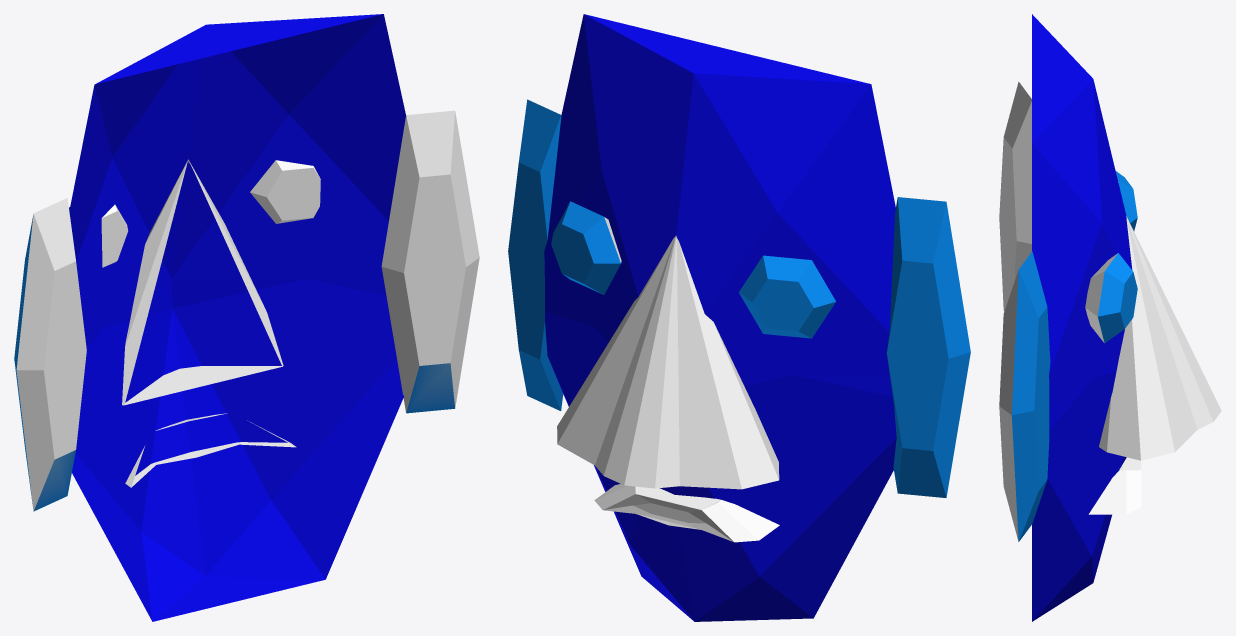
The model's file is ThunderBlue.fbx.
3 views of the same model, side by side, from view 1: azimuth 30°, elevation 25°; view 2: azimuth 150°, elevation 25°; view 3: azimuth 270°, elevation 25° (orthographic). The views are drawn at different scales.
Visible parts, largest first — view 1: Cube, Torus.001, Cone, Torus.004, Torus.002; view 2: Cube, Cone, Torus.001, Torus.004, Torus.002; view 3: Cube, Torus.001, Cone, Torus.004, Torus.002.
Part boxes in pixels (x1=…): Cube: x1=69, y1=14, x2=406, y2=621; Torus.001: x1=14, y1=110, x2=479, y2=511; Cone: x1=122, y1=159, x2=283, y2=405; Torus.004: x1=69, y1=160, x2=320, y2=267; Torus.002: x1=125, y1=413, x2=296, y2=487; Cube: x1=544, y1=14, x2=896, y2=621; Cone: x1=557, y1=236, x2=779, y2=489; Torus.001: x1=508, y1=99, x2=970, y2=497; Torus.004: x1=551, y1=201, x2=836, y2=338; Torus.002: x1=594, y1=484, x2=779, y2=542; Cube: x1=1032, y1=14, x2=1132, y2=621; Torus.001: x1=999, y1=82, x2=1050, y2=541; Cone: x1=1099, y1=216, x2=1221, y2=460; Torus.004: x1=1085, y1=171, x2=1137, y2=343; Torus.002: x1=1088, y1=457, x2=1141, y2=514.
Size of the model in its own units: 798 by 908 by 363.
